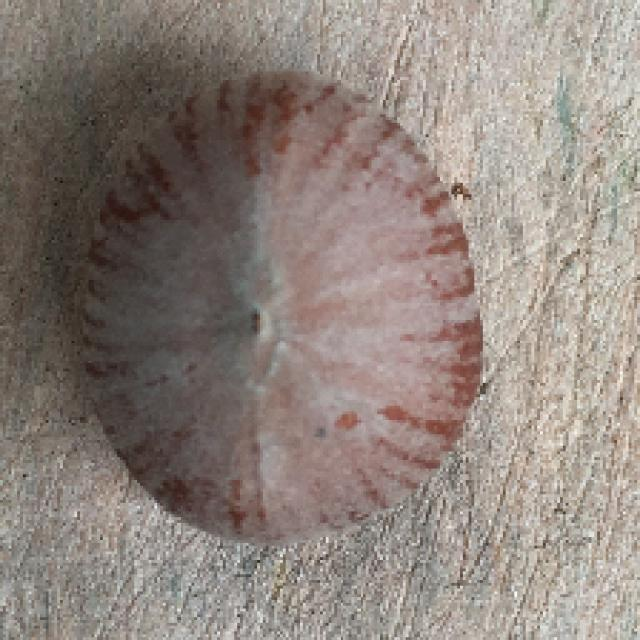qualityHazelnut: (55, 73, 493, 548)
